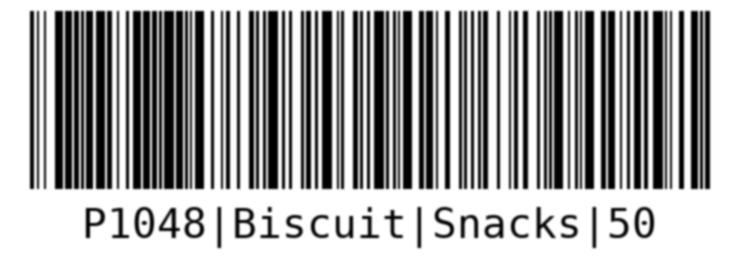milk: (26, 8, 716, 254)
